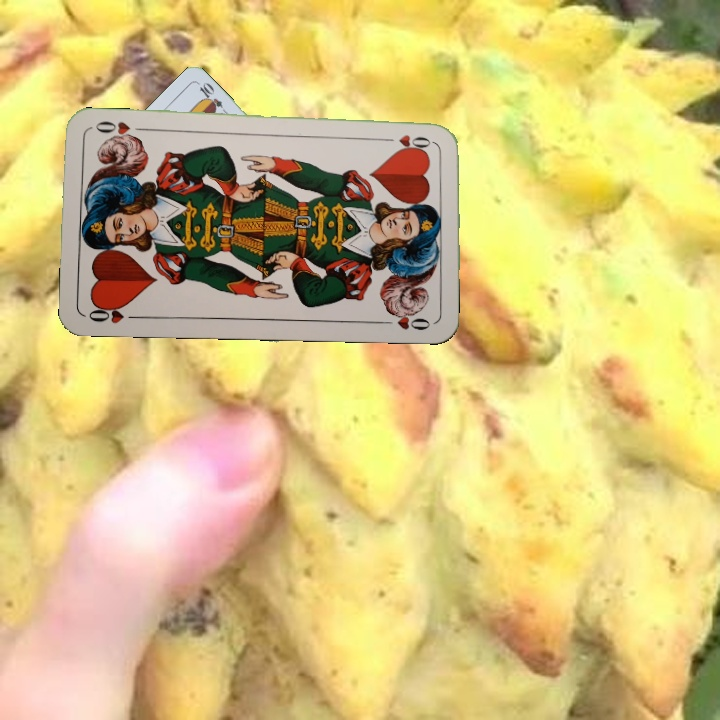HO: (84, 301, 142, 326), (378, 131, 437, 149)
